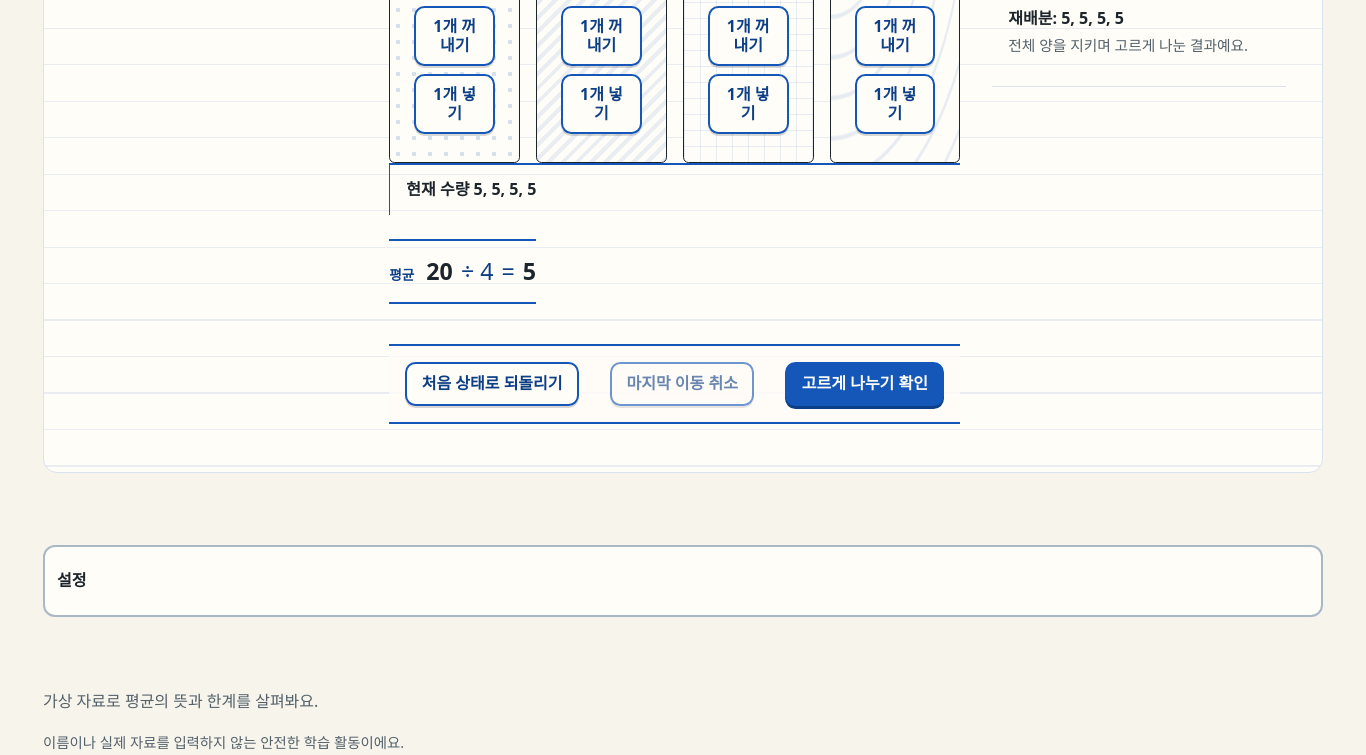
Test: learning router › hands a balanced redistribution off to calculation after confirmation
(page scrolled)
Click the button "고르게 나누기 확인": click(865, 384) [786,362,944,406]
(page scrolled)
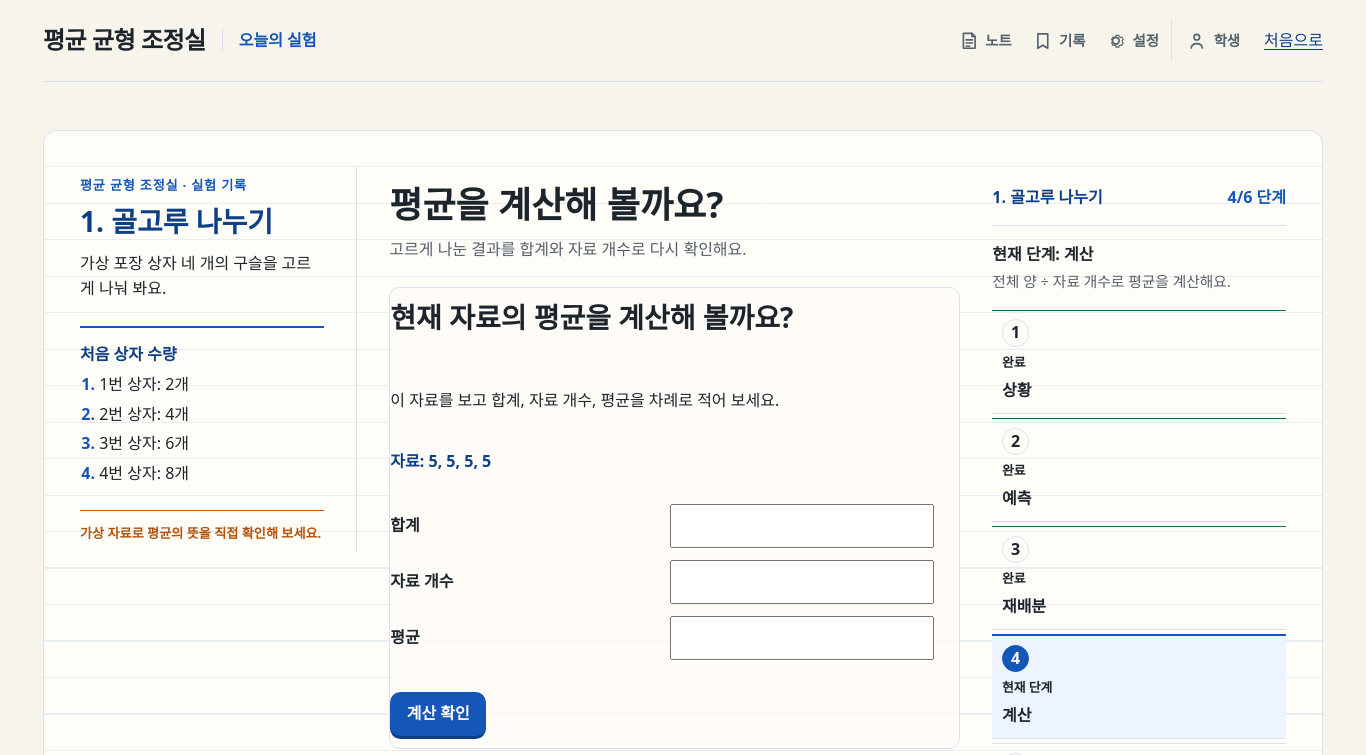
Result: the heading "평균을 계산해 볼까요?" is shown at [389,180,723,229]
Result: the number field labelled "합계" is shown at [670,504,934,548]
